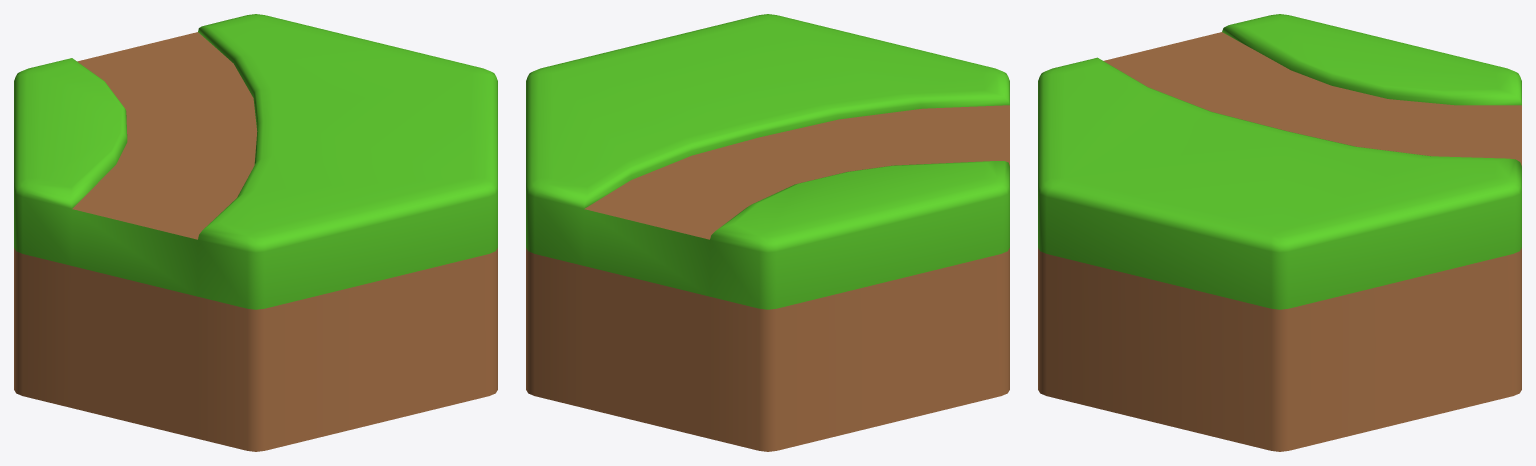
File: Tile_Green_Path_Turn_R.fbx
The picture shows the model from 3 angles, left to right: view 1: azimuth 30°, elevation 25°; view 2: azimuth 150°, elevation 25°; view 3: azimuth 270°, elevation 25°; orthographic projection.
Visible parts, largest first — view 1: Tile_Green_Path_Turn_R; view 2: Tile_Green_Path_Turn_R; view 3: Tile_Green_Path_Turn_R.
Part boxes in pixels (x1,y1,x2,y2): Tile_Green_Path_Turn_R: (14,14,497,451); Tile_Green_Path_Turn_R: (526,14,1009,451); Tile_Green_Path_Turn_R: (1038,14,1521,451).
Bounding box in the file's own units: 9302 × 3880 × 8129.
